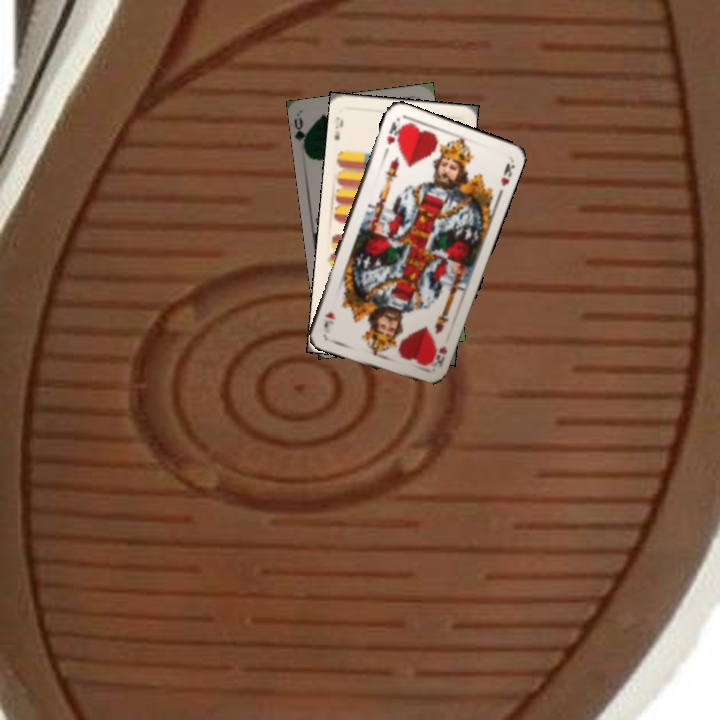E9: (330, 113, 346, 142)
GO: (291, 114, 313, 154)
HK: (380, 116, 405, 156), (425, 339, 450, 370)
